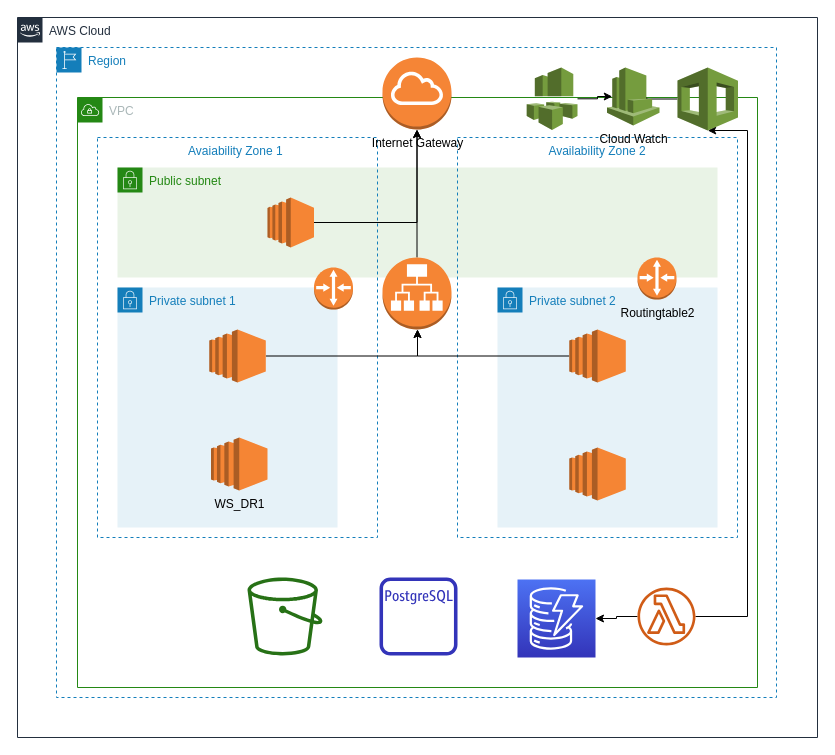
The diagram is 835 pixels wide and 755 high, and some of its shapes have lost their labels. The centre of each missing label's shape, as x and y in pixels:
"ALB" goes at pixel 417 293.
"Bash Host" goes at pixel 290 222.
"Routingtable1" goes at pixel 333 288.
"WS_A1" goes at pixel 237 355.
"WS_A2" goes at pixel 597 355.
"WS_DR2" goes at pixel 597 473.
